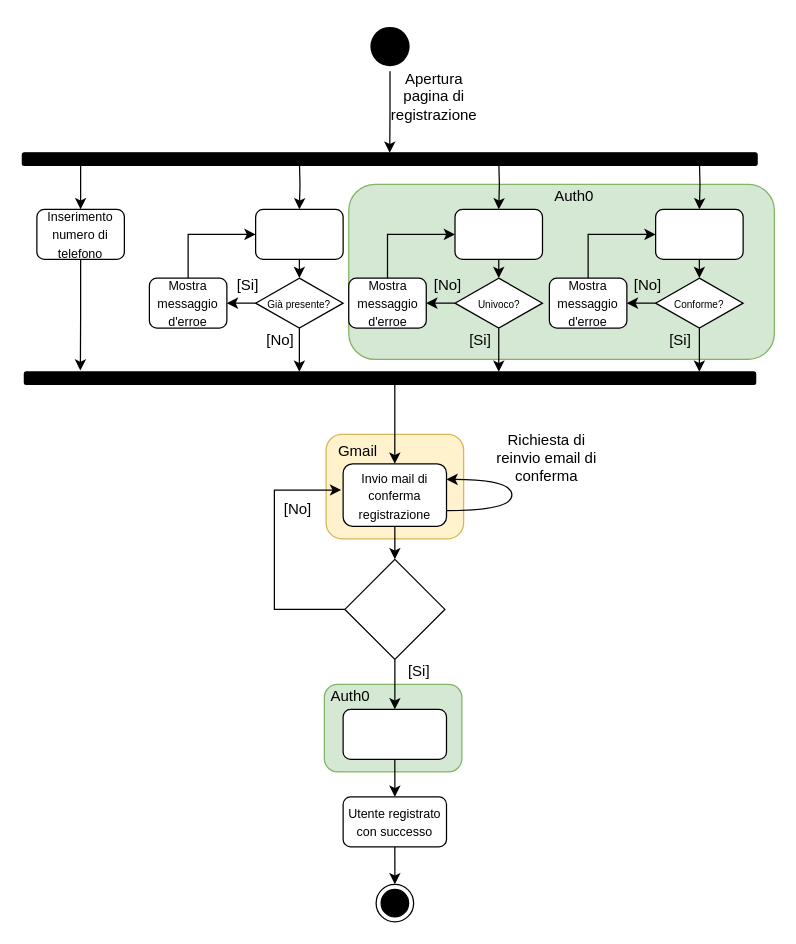
The diagram is 796 pixels wide and 944 high, and some of its shapes have lost their labels. Each missing label, with the box of its shape:
Inserimento indirizzo email: (254, 208, 343, 259)
Inserimento password: (654, 208, 743, 259)
Inserimento username: (454, 208, 542, 259)
Registrazione confermata?: (344, 558, 445, 659)
Salvataggio dati nel Database: (342, 708, 446, 759)
